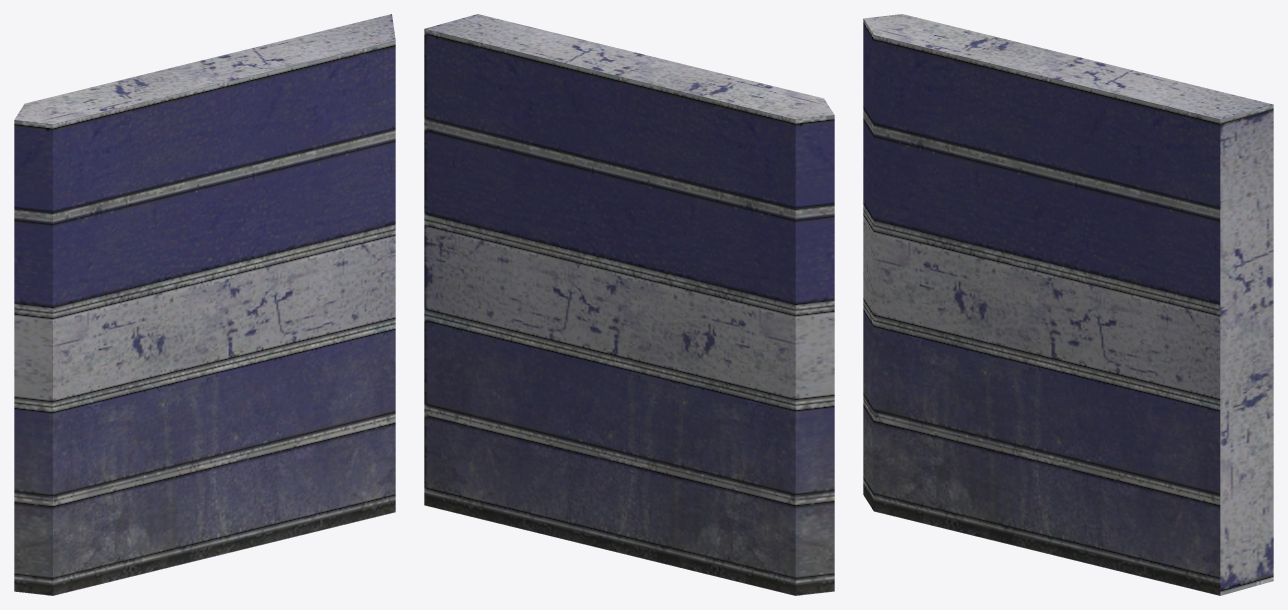
The model's file is wall26.obj.
3 renders of one model, left to right at view 1: azimuth 30°, elevation 25°; view 2: azimuth 150°, elevation 25°; view 3: azimuth 330°, elevation 25°, orthographic.
Parts seen in each view (by area): view 1: Cube.029; view 2: Cube.029; view 3: Cube.029.
Boxes of the visible parts, <box> form: Cube.029: <box>14,14,395,595</box>; Cube.029: <box>424,14,834,595</box>; Cube.029: <box>863,14,1273,595</box>.
Bounding box in the file's own units: 2.5 × 2.88 × 0.3125.
